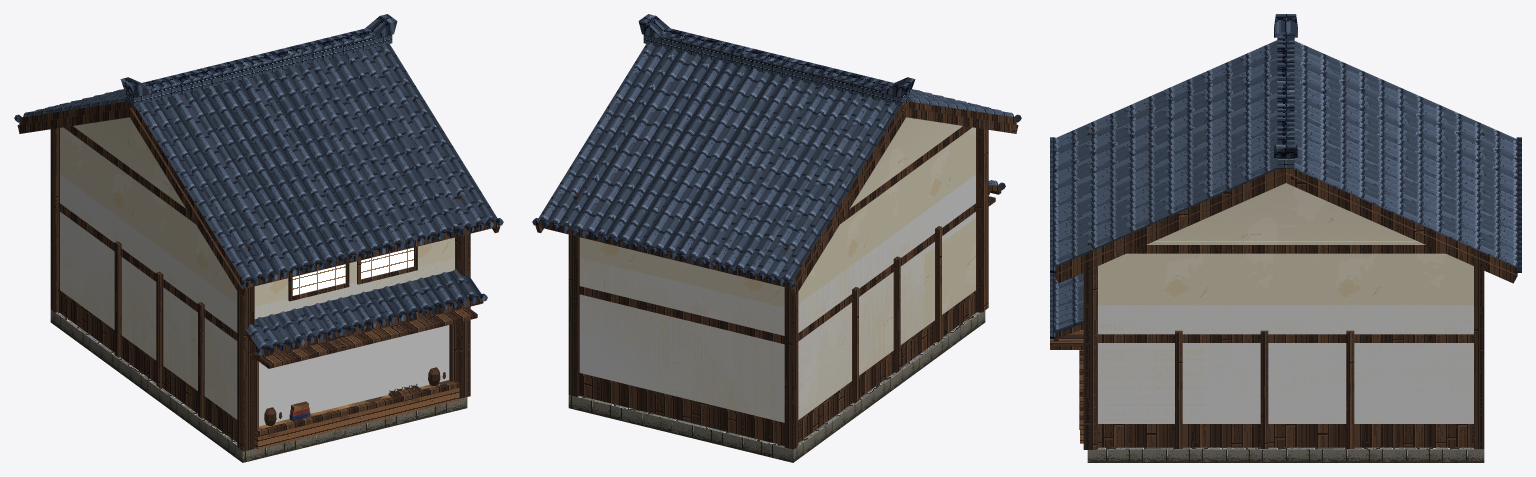
The model's file is JP_Row_Shop_A_F.glb.
3 views of the same model, side by side, from view 1: azimuth 30°, elevation 25°; view 2: azimuth 150°, elevation 25°; view 3: azimuth 270°, elevation 25° (orthographic). The views are drawn at different scales.
Visible parts, largest first — view 1: JP_Row_Shop_A_F, COL_JP_Row_Shop_A_F; view 2: JP_Row_Shop_A_F, COL_JP_Row_Shop_A_F; view 3: JP_Row_Shop_A_F, COL_JP_Row_Shop_A_F.
Boxes of the visible parts, left/top/right/bottom form: JP_Row_Shop_A_F: left=14, top=14, right=503, bottom=462; COL_JP_Row_Shop_A_F: left=60, top=174, right=454, bottom=426; JP_Row_Shop_A_F: left=532, top=14, right=1021, bottom=462; COL_JP_Row_Shop_A_F: left=579, top=174, right=975, bottom=422; JP_Row_Shop_A_F: left=1050, top=14, right=1521, bottom=462; COL_JP_Row_Shop_A_F: left=1098, top=305, right=1473, bottom=423.
Bounding box in the file's own units: 7.42 × 8.36 × 11.
15 materials, 15 textured.
